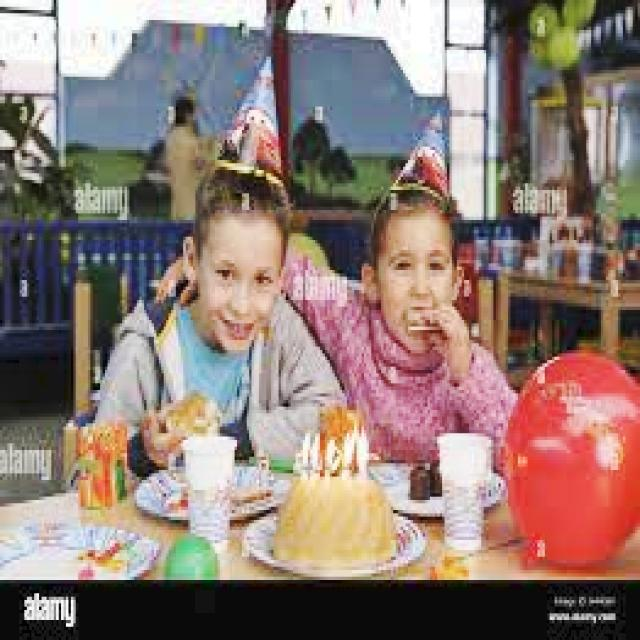TOPI: (205, 47, 288, 183), (381, 83, 454, 210)
